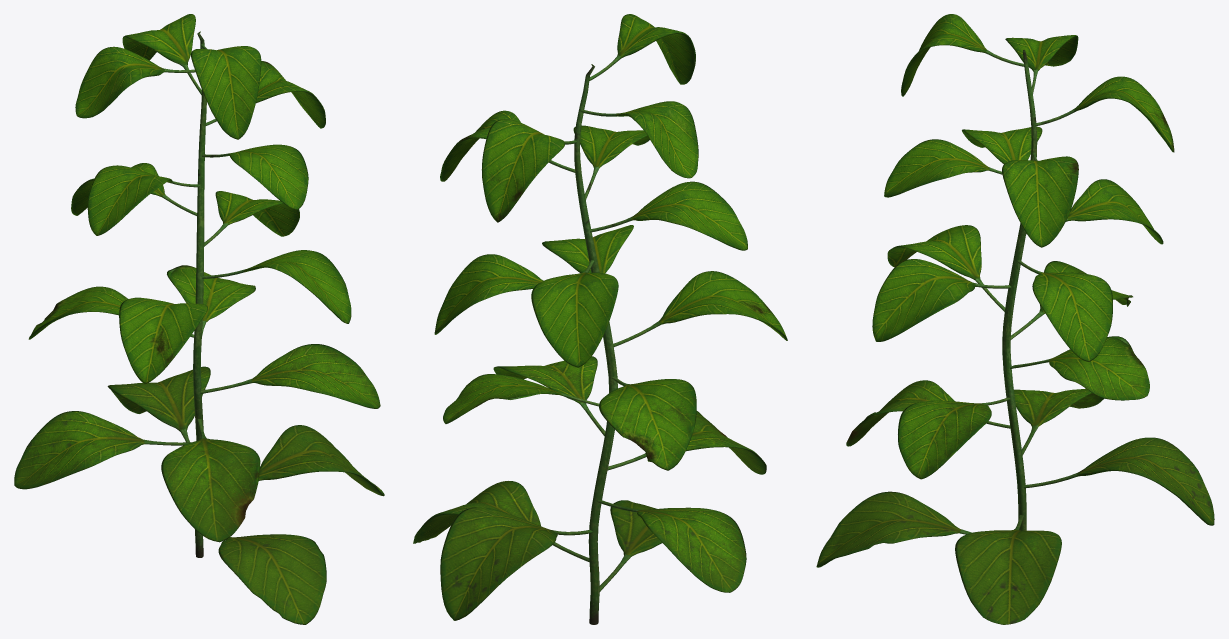
Rendered from plant_outdoors.glb.
The picture shows the model from 3 angles, left to right: view 1: azimuth 30°, elevation 25°; view 2: azimuth 150°, elevation 25°; view 3: azimuth 270°, elevation 25°; orthographic projection. The views are drawn at different scales.
Parts seen in each view (by area): view 1: stem; view 2: stem; view 3: stem.
Boxes of the visible parts, x1,y1,x2,y2 form: stem: [14, 14, 384, 624]; stem: [413, 14, 787, 624]; stem: [816, 14, 1214, 624].
Bounding box in the file's own units: 293 × 457 × 307.
1 material, 1 textured.
